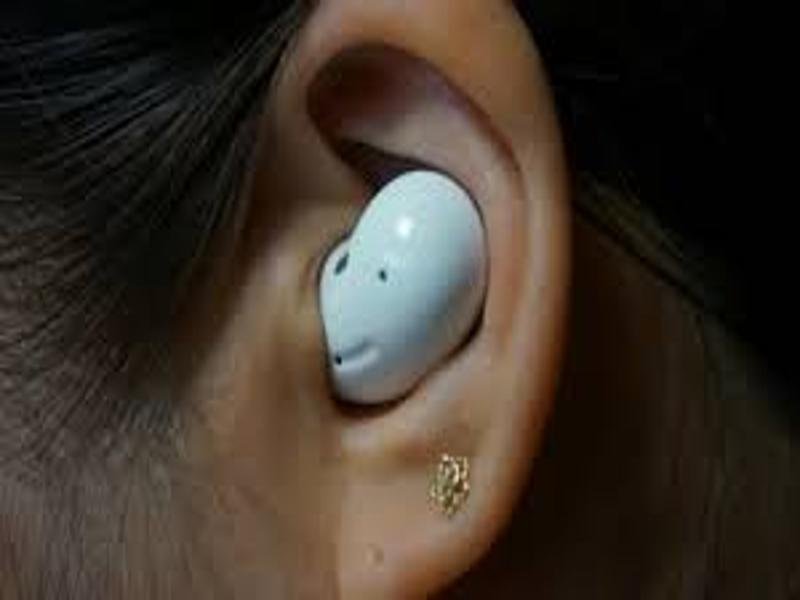headphone: (316, 169, 487, 415)
